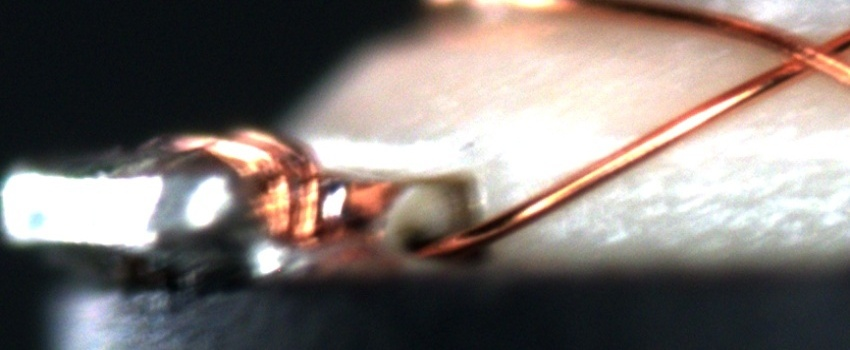CL: (766, 25, 847, 85)
DL: (694, 110, 849, 153)
TE: (154, 116, 336, 255)
